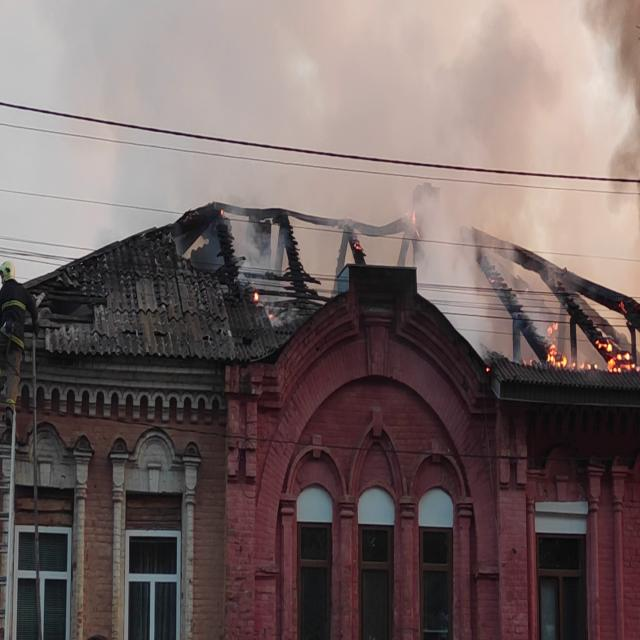fire: (457, 342, 488, 375), (520, 353, 552, 379)
smoke: (613, 12, 640, 202), (434, 204, 469, 306)
